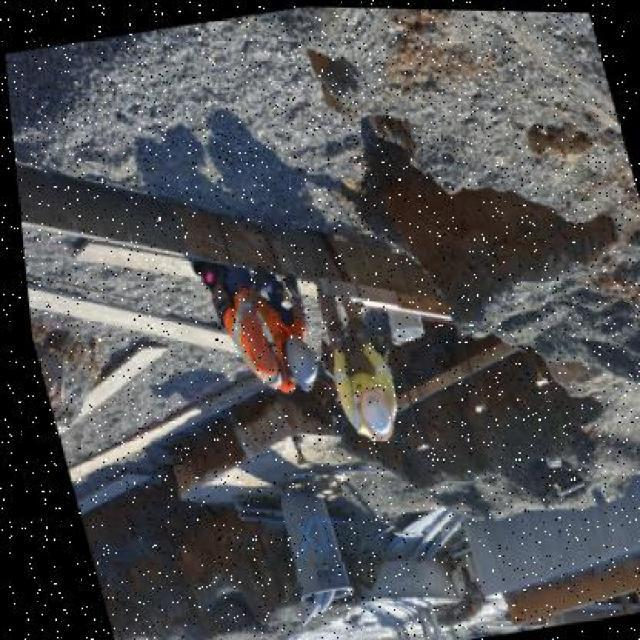helmet: (272, 326, 314, 390), (346, 383, 388, 435)
